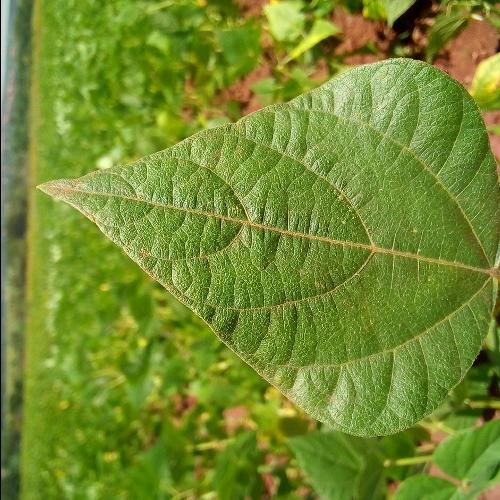sehat: (254, 146, 461, 347)
